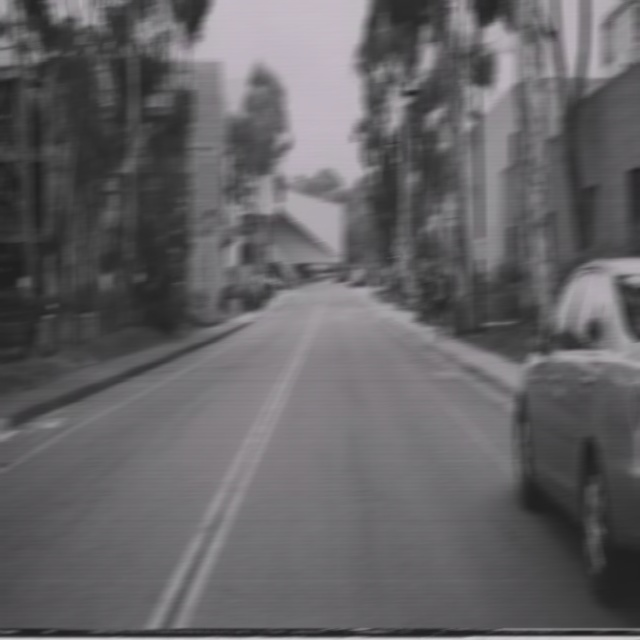pedestrianCrossing: (392, 234, 405, 258)
